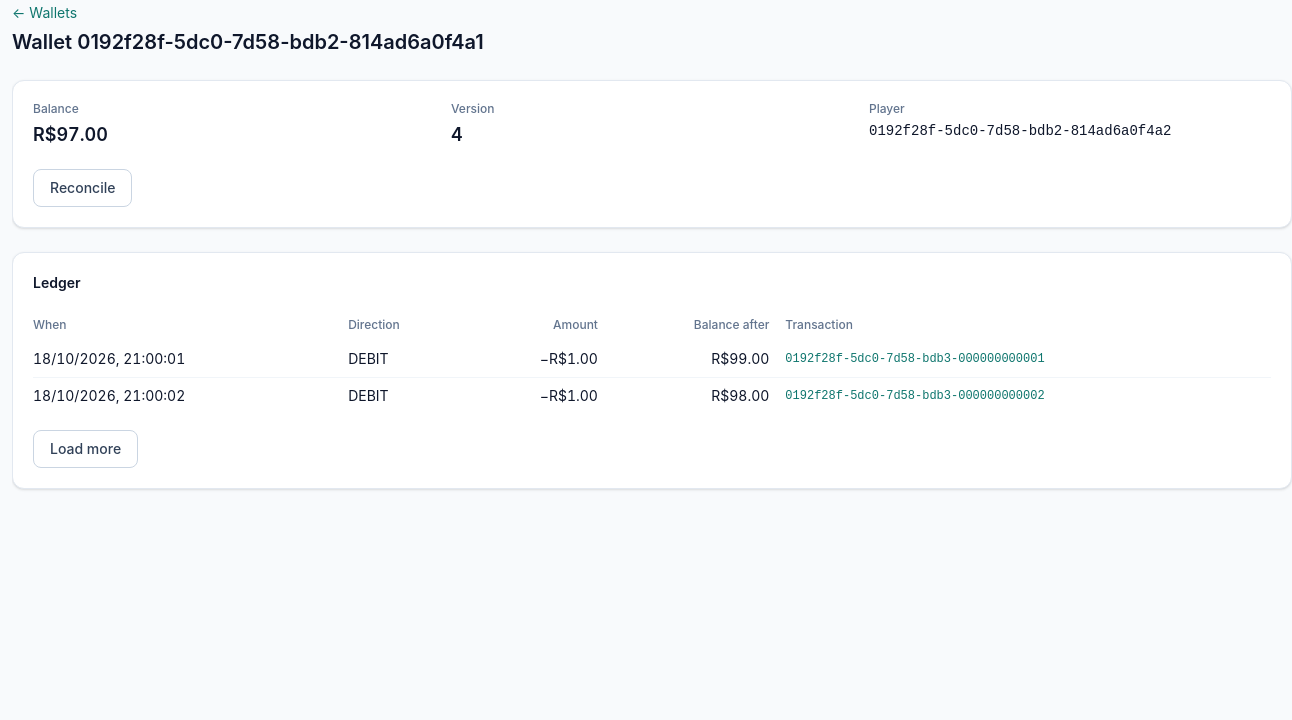
Test case: WalletsPage › the ledger loads the next page from the cursor
Expected: the number of rows is 3, [33,309,1271,341]; [33,341,1271,378]; [33,378,1271,414]
Click the button "Load more". click: (86, 449)
box: [33,430,138,468]
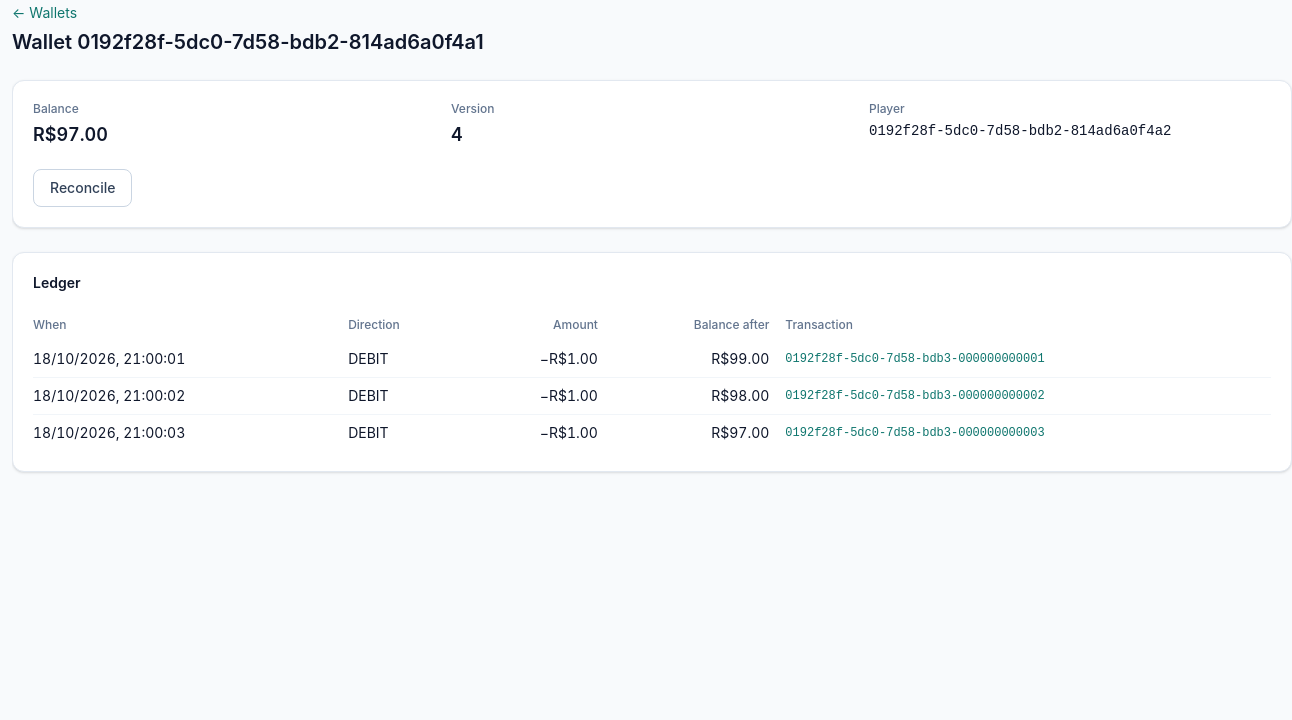
Expected: the number of rows is 4, [33,309,1271,341]; [33,341,1271,378]; [33,378,1271,414]; [33,414,1271,451]
Expected: the button "Load more" is gone
